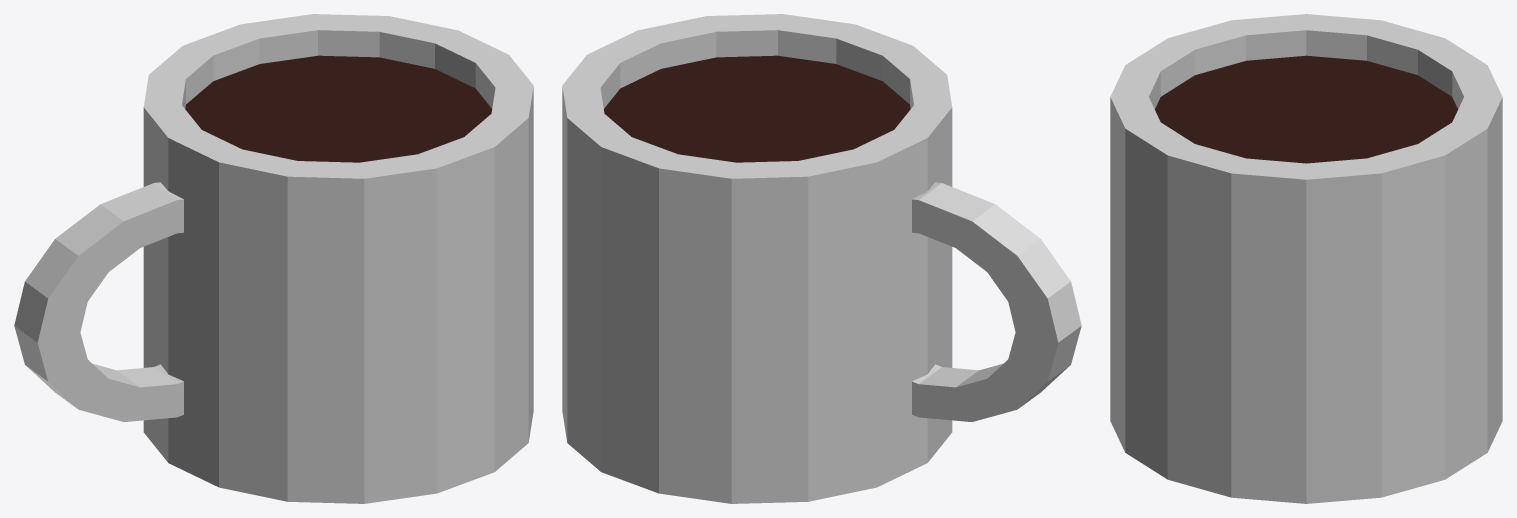
File: mug.fbx
The picture shows the model from 3 angles, left to right: view 1: azimuth 30°, elevation 25°; view 2: azimuth 150°, elevation 25°; view 3: azimuth 270°, elevation 25°; orthographic projection.
Visible parts, largest first — view 1: mug; view 2: mug; view 3: mug.
Boxes of the visible parts, x1=… form: mug: x1=14, y1=14, x2=533, y2=503; mug: x1=562, y1=14, x2=1081, y2=503; mug: x1=1110, y1=14, x2=1502, y2=503.
Size of the model in its own units: 2.84 by 1.82 by 2.
